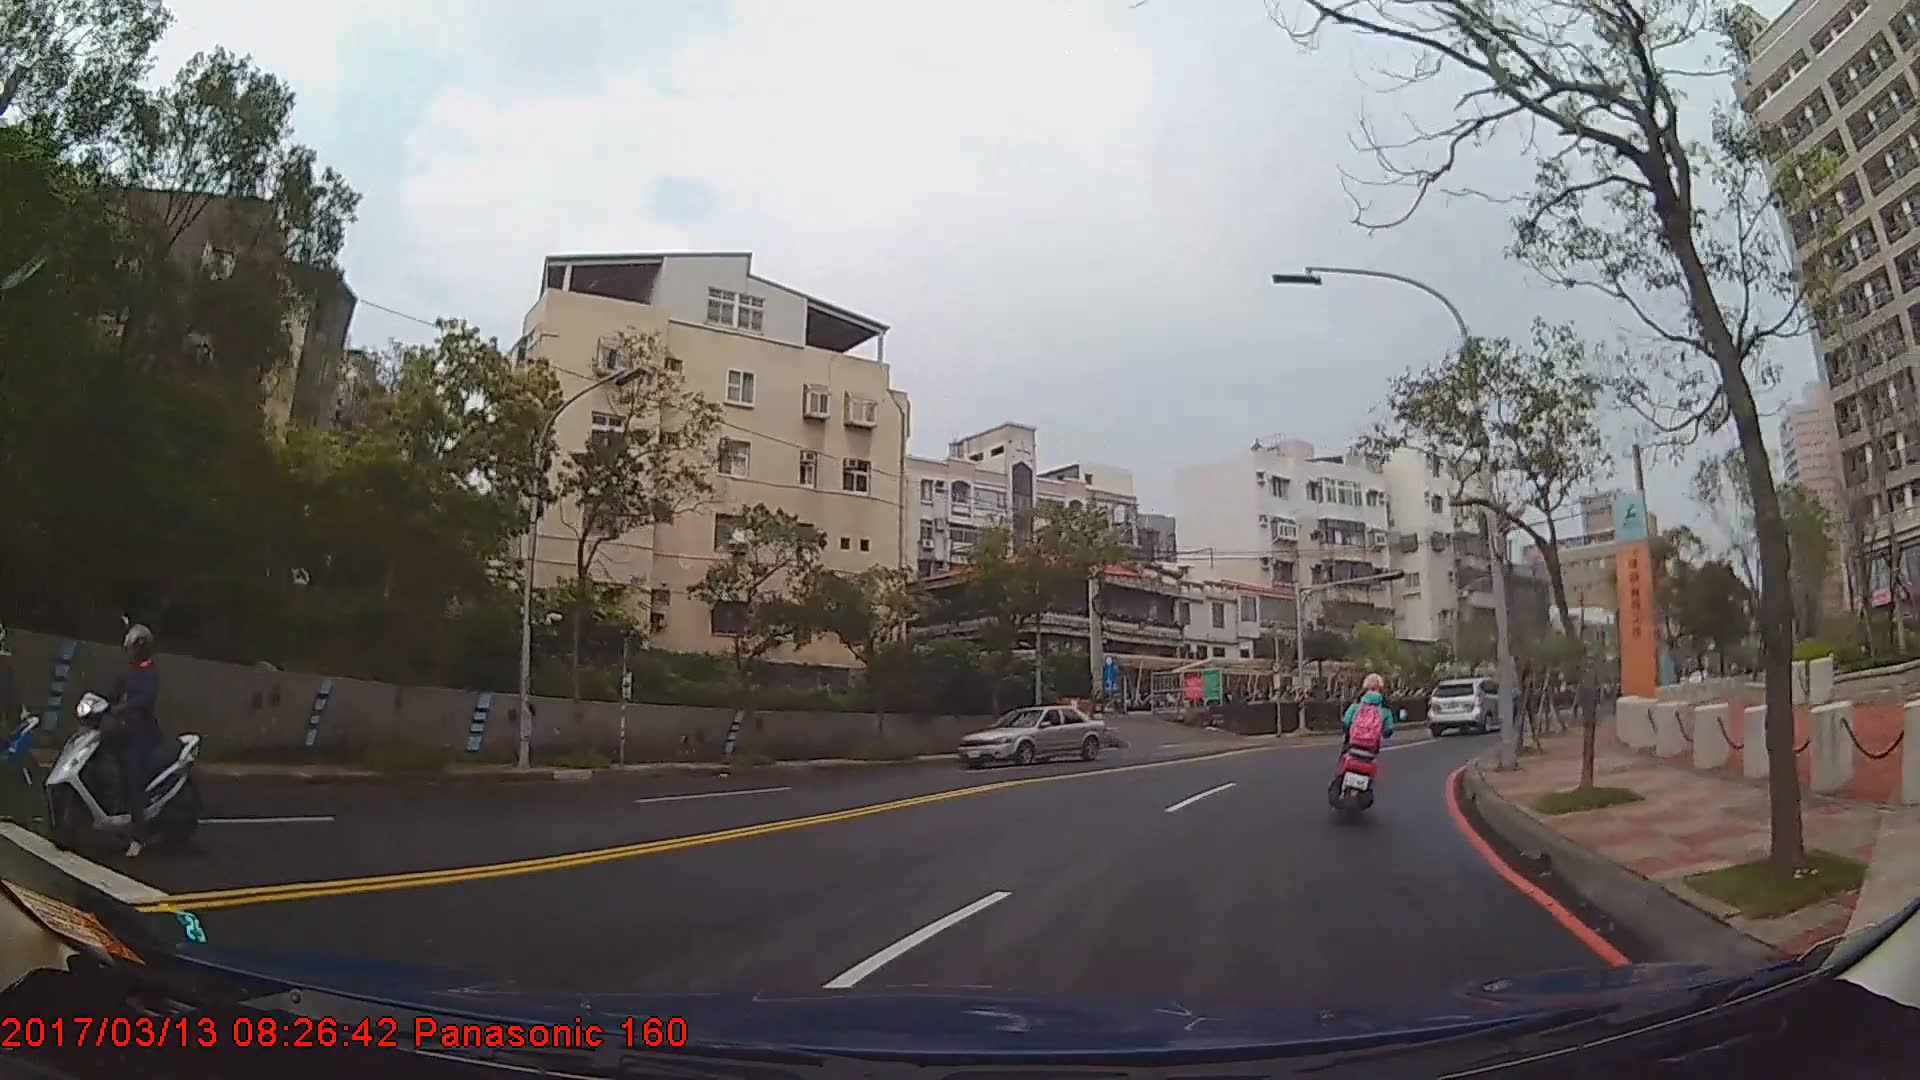rider: (48, 619, 196, 857), (1335, 670, 1399, 806)
vehicle: (954, 705, 1105, 766), (1426, 676, 1506, 737)
